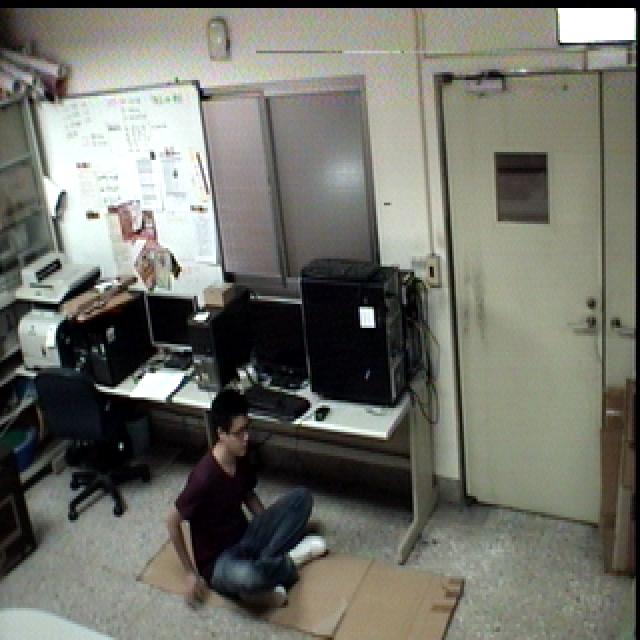sit: (158, 386, 332, 617)
